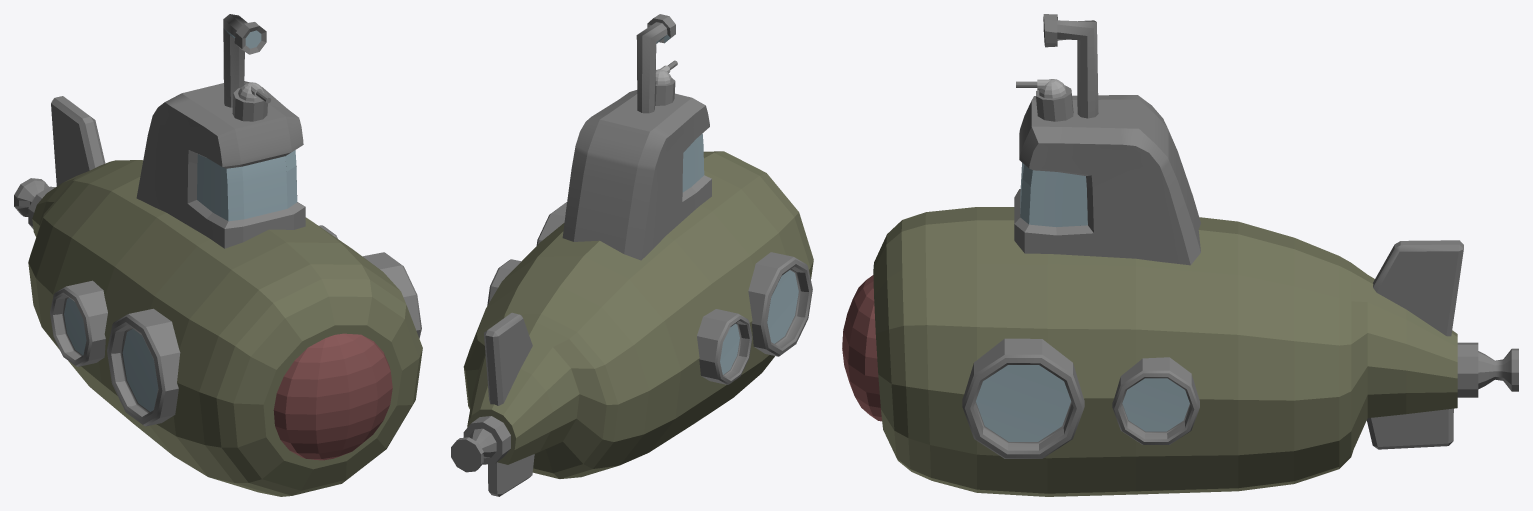
Rendered from Starting Submarine.fbx.
3 renders of one model, left to right at view 1: azimuth 30°, elevation 25°; view 2: azimuth 150°, elevation 25°; view 3: azimuth 270°, elevation 25°, orthographic. The views are drawn at different scales.
Parts seen in each view (by area): view 1: Starting_Submarine; view 2: Starting_Submarine; view 3: Starting_Submarine.
Boxes of the visible parts, box(x1,y1,x2,y2) form: Starting_Submarine: box(14, 14, 422, 496); Starting_Submarine: box(451, 14, 813, 496); Starting_Submarine: box(842, 14, 1518, 496).
Bounding box in the file's own units: 4.28 × 6.77 × 8.91.
